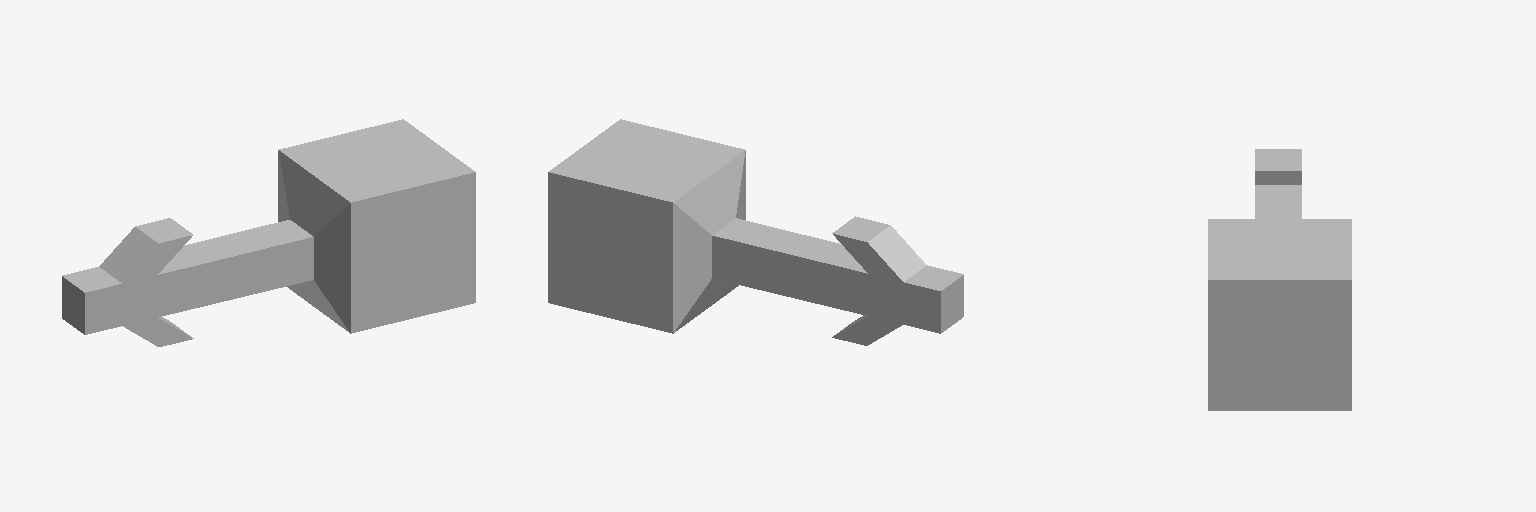
File: drone3Head.obj
The picture shows the model from 3 angles: view 1: azimuth 30°, elevation 25°; view 2: azimuth 150°, elevation 25°; view 3: azimuth 270°, elevation 25°; orthographic projection.
Visible parts, largest first — view 1: Object.1; view 2: Object.1; view 3: Object.1.
Boxes of the visible parts, <box> form: Object.1: <box>62,119,475,346</box>; Object.1: <box>548,119,963,345</box>; Object.1: <box>1208,149,1351,410</box>.
Bounding box in the file's own units: 34.24 × 11.67 × 11.67.